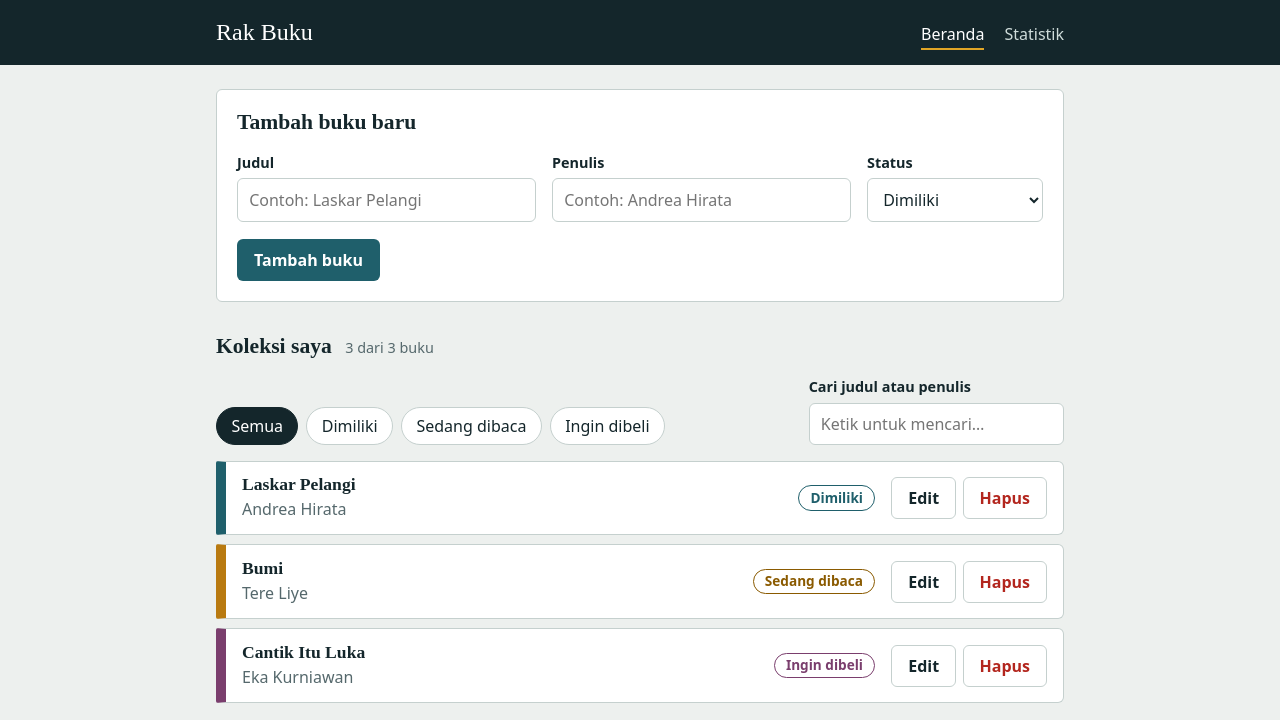
Aplikasi Manajemen Buku (integrasi) › menghapus buku setelah konfirmasi
This screenshot has width=1280, height=720.
Click the button with aria-label "Hapus Bumi" at (1005, 582), box x1=962 y1=561 x2=1047 y2=603
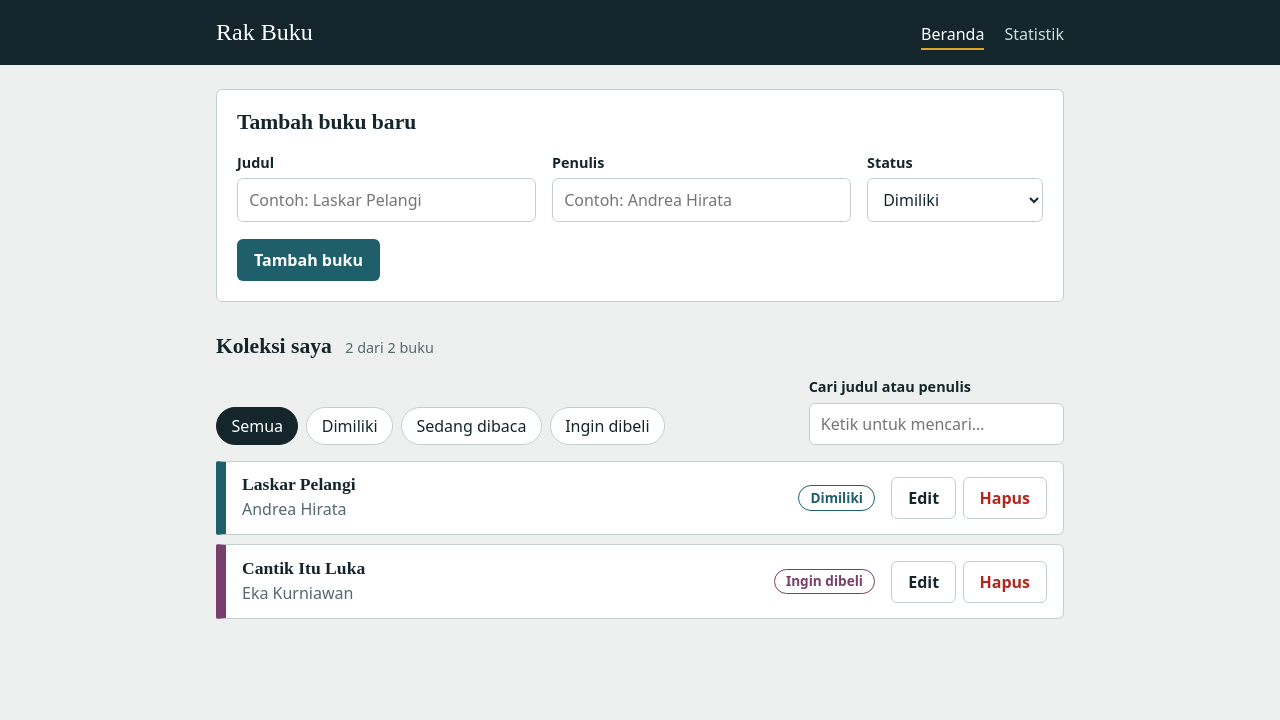
expect the heading "Bumi" is gone: met
